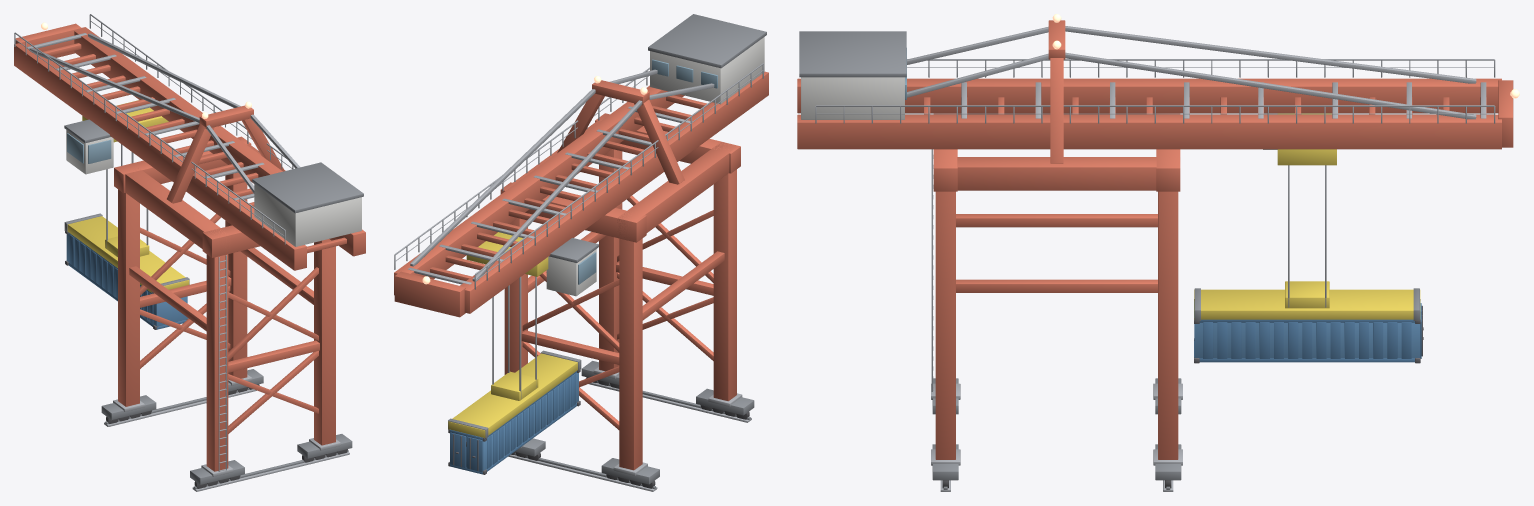
File: th15_containerkran.glb
3 views of the same model, side by side, from view 1: azimuth 30°, elevation 25°; view 2: azimuth 150°, elevation 25°; view 3: azimuth 270°, elevation 25° (orthographic). The views are drawn at different scales.
Parts seen in each view (by area): view 1: Cube.032, Cube.033, Cube.012, Cube.013, Cube.014, Cube.071, Cube.072, Cube.030, Cube.015, Cube.136, Cube.028, Cube.064 (+32 smaller); view 2: Cube.032, Cube.033, Cube.013, Cube.012, Cube.072, Cube.030, Cube.136, Cube.071, Cube.014, Cube.063, Cube.015, Cube.029 (+30 smaller); view 3: Cube.033, Cube.032, Cube.031, Cube.136, Cube.014, Cube.015, Cube.072, Cube.071, Cube.139, Cube.026, Cube.027, Cube.067 (+14 smaller).
Boxes of the visible parts, <box> form: Cube.032: <box>14,43,306,270</box>; Cube.033: <box>74,27,365,256</box>; Cube.012: <box>206,254,228,471</box>; Cube.013: <box>118,189,139,406</box>; Cube.014: <box>314,239,335,445</box>; Cube.071: <box>254,184,361,246</box>; Cube.072: <box>252,162,363,213</box>; Cube.030: <box>125,168,230,257</box>; Cube.015: <box>225,172,247,378</box>; Cube.136: <box>67,216,189,292</box>; Cube.028: <box>202,225,260,257</box>; Cube.064: <box>167,124,214,203</box>; Cube.032: <box>460,71,768,313</box>; Cube.033: <box>394,85,684,295</box>; Cube.013: <box>619,238,642,470</box>; Cube.012: <box>713,169,736,401</box>; Cube.072: <box>648,14,766,68</box>; Cube.030: <box>617,141,738,241</box>; Cube.136: <box>448,353,577,437</box>; Cube.071: <box>650,37,764,104</box>; Cube.014: <box>599,149,622,371</box>; Cube.063: <box>394,271,465,317</box>; Cube.015: <box>504,218,527,374</box>; Cube.029: <box>500,182,646,242</box>; Cube.033: <box>797,114,1501,149</box>; Cube.032: <box>797,78,1501,113</box>; Cube.031: <box>933,157,1180,190</box>; Cube.136: <box>1194,289,1420,319</box>; Cube.014: <box>935,191,955,459</box>; Cube.015: <box>1158,191,1178,459</box>; Cube.072: <box>799,31,906,77</box>; Cube.071: <box>801,77,904,119</box>; Cube.139: <box>1194,322,1420,358</box>; Cube.026: <box>956,214,1157,227</box>; Cube.027: <box>956,279,1157,292</box>; Cube.067: <box>1065,26,1476,83</box>.
Size of the model in its own units: 12 by 24.84 by 38.95.
